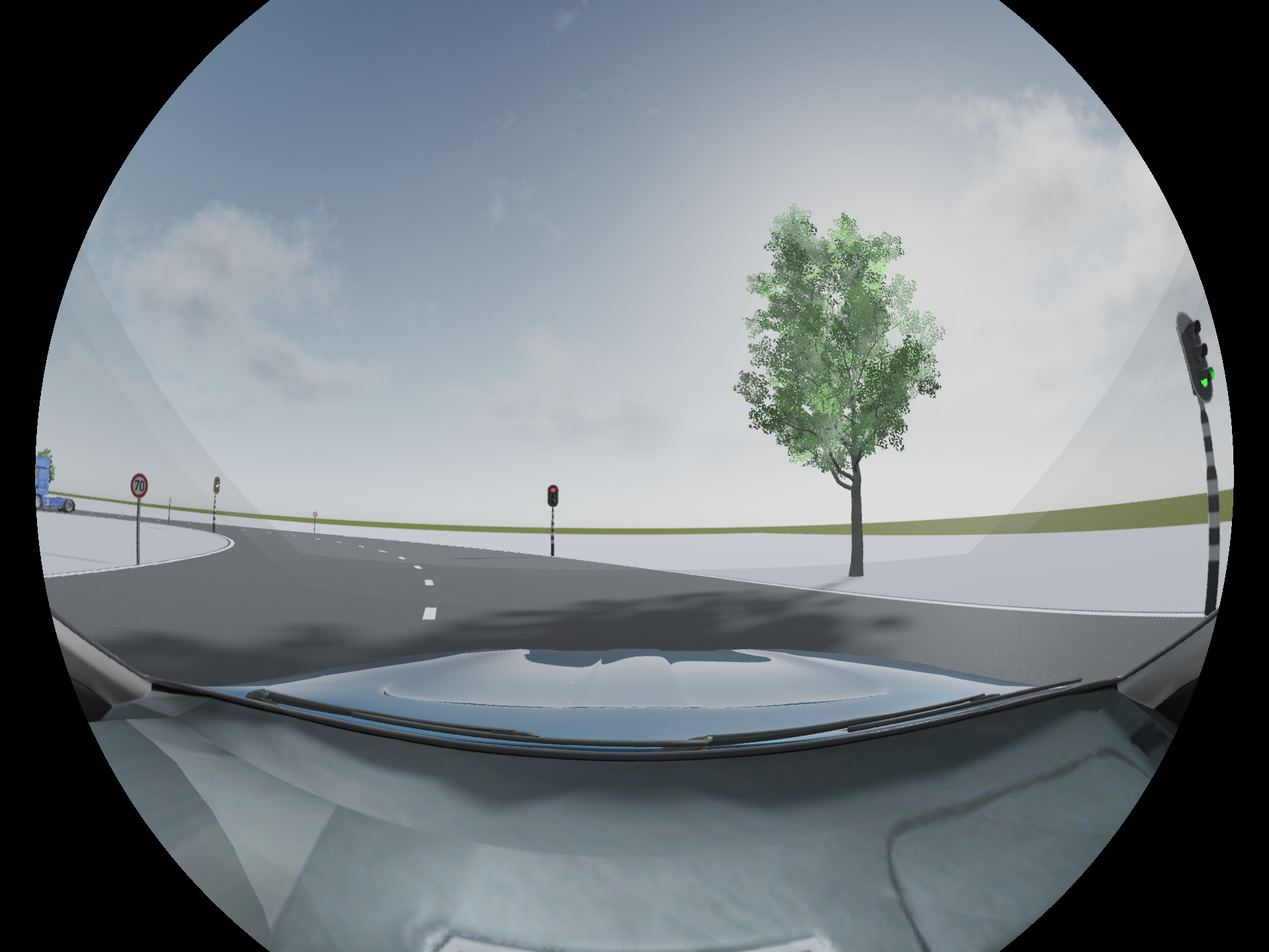Speed Limit 70: (132, 472, 147, 499)
